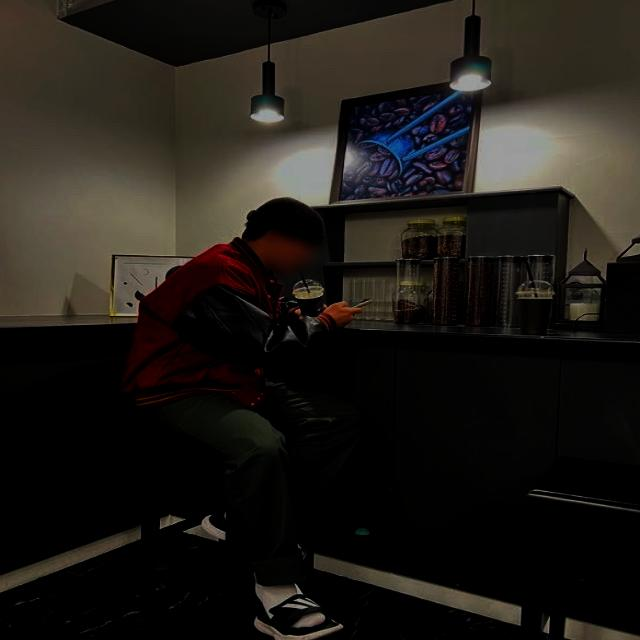cottonpants: (147, 373, 371, 587)
jacket: (121, 232, 336, 406)
